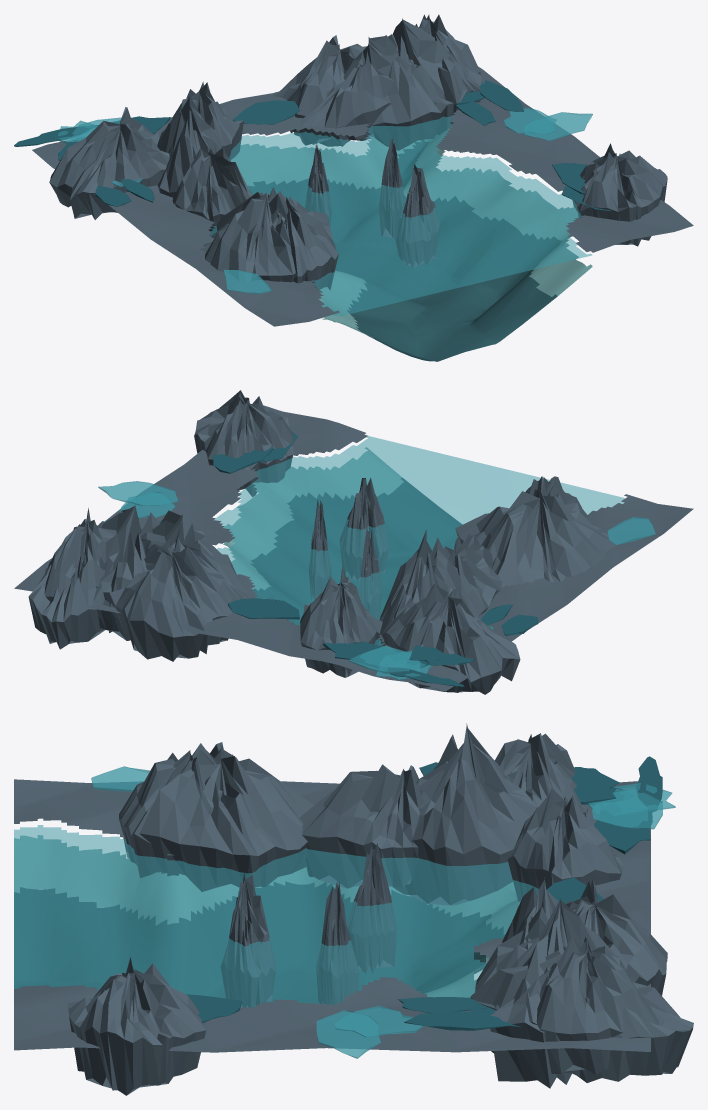
Rendered from water_tile_01.glb.
3 renders of one model, top to bottom at view 1: azimuth 30°, elevation 25°; view 2: azimuth 150°, elevation 25°; view 3: azimuth 270°, elevation 25°, orthographic. The views are drawn at different scales.
Visible parts, largest first — view 1: glacial water surface 01, submerged mineral riverbed.001, single continuous dark slate shoreline.001, visible shallow mineral shelves.001, angular fractured shoreline ledge.016, angular fractured shoreline ledge.020, angular fractured shoreline ledge.025, angular fractured shoreline ledge.019, angular fractured shoreline ledge.021, angular fractured shoreline ledge.026, angular fractured shoreline ledge.017, angular fractured shoreline ledge.027 (+15 smaller); view 2: glacial water surface 01, single continuous dark slate shoreline.001, submerged mineral riverbed.001, angular fractured shoreline ledge.017, angular fractured shoreline ledge.025, angular fractured shoreline ledge.016, visible shallow mineral shelves.001, angular fractured shoreline ledge.021, angular fractured shoreline ledge.023, angular fractured shoreline ledge.018, angular fractured shoreline ledge.020, angular fractured shoreline ledge.027 (+18 smaller); view 3: glacial water surface 01, submerged mineral riverbed.001, single continuous dark slate shoreline.001, angular fractured shoreline ledge.025, angular fractured shoreline ledge.027, visible shallow mineral shelves.001, angular fractured shoreline ledge.021, angular fractured shoreline ledge.026, angular fractured shoreline ledge.023, angular fractured shoreline ledge.022, angular fractured shoreline ledge.018, angular fractured shoreline ledge.020 (+19 smaller).
Part boxes in pixels (left/top/right/bottom): glacial water surface 01: left=209, top=115, right=591, bottom=316; submerged mineral riverbed.001: left=248, top=139, right=562, bottom=361; single continuous dark slate shoreline.001: left=32, top=66, right=693, bottom=326; visible shallow mineral shelves.001: left=231, top=126, right=592, bottom=337; angular fractured shoreline ledge.016: left=49, top=107, right=169, bottom=219; angular fractured shoreline ledge.020: left=369, top=18, right=478, bottom=150; angular fractured shoreline ledge.025: left=200, top=187, right=335, bottom=282; angular fractured shoreline ledge.019: left=300, top=36, right=421, bottom=146; angular fractured shoreline ledge.021: left=572, top=143, right=667, bottom=246; angular fractured shoreline ledge.026: left=172, top=142, right=252, bottom=236; angular fractured shoreline ledge.017: left=273, top=35, right=369, bottom=146; angular fractured shoreline ledge.027: left=157, top=94, right=230, bottom=197; glacial water surface 01: left=214, top=436, right=624, bottom=646; single continuous dark slate shoreline.001: left=14, top=405, right=693, bottom=691; submerged mineral riverbed.001: left=250, top=477, right=461, bottom=645; angular fractured shoreline ledge.017: left=100, top=544, right=239, bottom=661; angular fractured shoreline ledge.025: left=455, top=476, right=616, bottom=587; angular fractured shoreline ledge.016: left=382, top=584, right=520, bottom=694; visible shallow mineral shelves.001: left=223, top=447, right=403, bottom=598; angular fractured shoreline ledge.021: left=194, top=390, right=293, bottom=496; angular fractured shoreline ledge.023: left=28, top=518, right=105, bottom=649; angular fractured shoreline ledge.018: left=300, top=566, right=382, bottom=677; angular fractured shoreline ledge.020: left=93, top=505, right=159, bottom=630; angular fractured shoreline ledge.027: left=379, top=529, right=467, bottom=646; glacial water surface 01: left=14, top=825, right=538, bottom=1007; submerged mineral riverbed.001: left=14, top=881, right=505, bottom=1006; single continuous dark slate shoreline.001: left=14, top=779, right=650, bottom=1052; angular fractured shoreline ledge.025: left=139, top=742, right=313, bottom=891; angular fractured shoreline ledge.027: left=392, top=723, right=536, bottom=905; visible shallow mineral shelves.001: left=14, top=835, right=520, bottom=997; angular fractured shoreline ledge.021: left=67, top=957, right=206, bottom=1095; angular fractured shoreline ledge.026: left=299, top=764, right=429, bottom=888; angular fractured shoreline ledge.023: left=470, top=941, right=693, bottom=1088; angular fractured shoreline ledge.022: left=536, top=936, right=658, bottom=1074; angular fractured shoreline ledge.018: left=507, top=788, right=623, bottom=901; angular fractured shoreline ledge.020: left=475, top=898, right=627, bottom=1076.
Bounding box in the file's own units: 1.12 × 0.3729 × 1.07.
